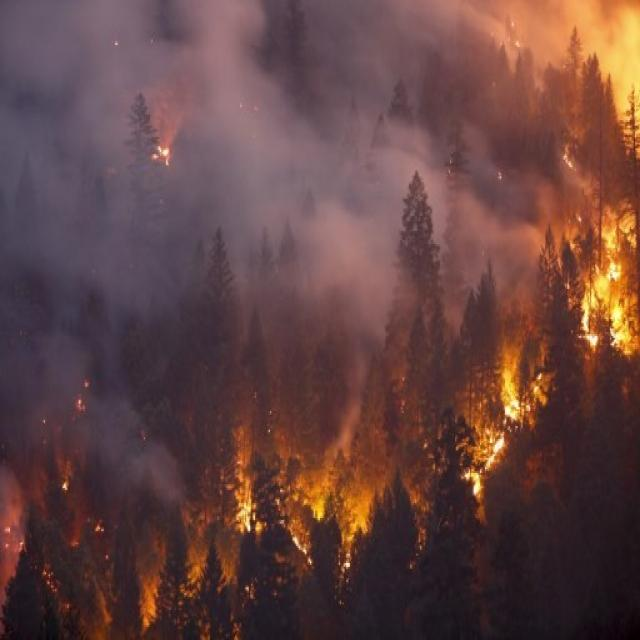Fire: (571, 197, 640, 377), (501, 319, 528, 434), (465, 467, 486, 520), (484, 434, 509, 473)
Smoke: (2, 60, 172, 520), (211, 128, 411, 462)
